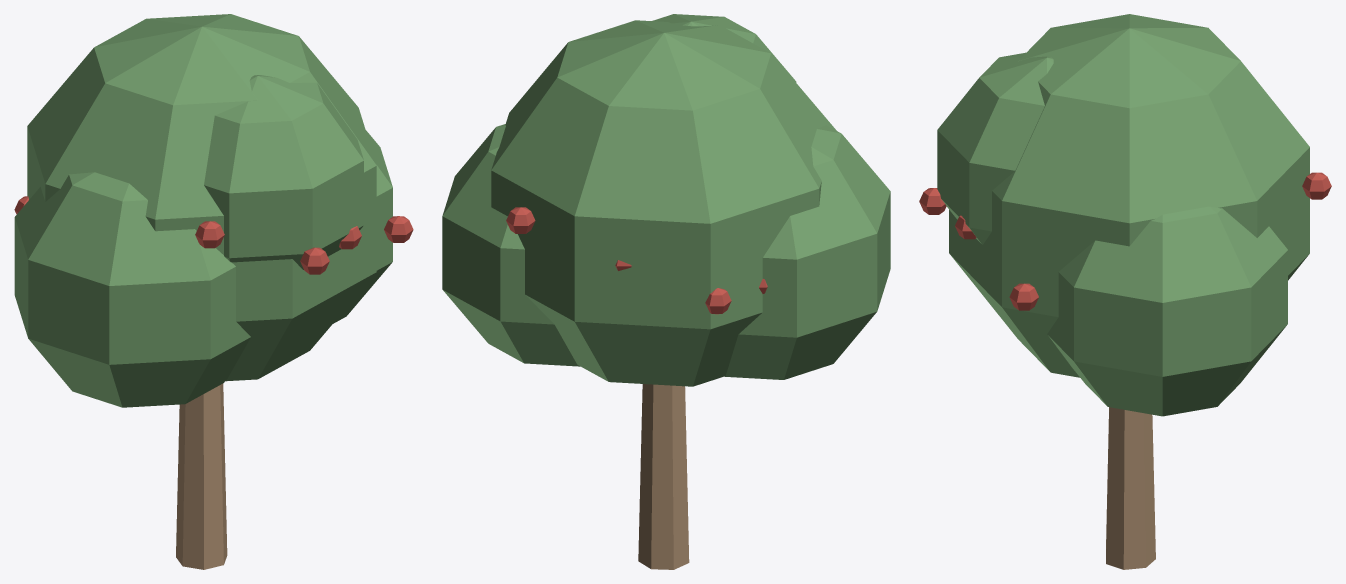
File: tree_apple.glb
3 views of the same model, side by side, from view 1: azimuth 30°, elevation 25°; view 2: azimuth 150°, elevation 25°; view 3: azimuth 270°, elevation 25° (orthographic).
Visible parts, largest first — view 1: tree_apple; view 2: tree_apple; view 3: tree_apple.
Boxes of the visible parts, bbox=[...] form: tree_apple: bbox=[14, 14, 413, 569]; tree_apple: bbox=[442, 14, 890, 569]; tree_apple: bbox=[919, 14, 1331, 569].
Size of the model in its own units: 3.22 by 4.2 by 2.96.
